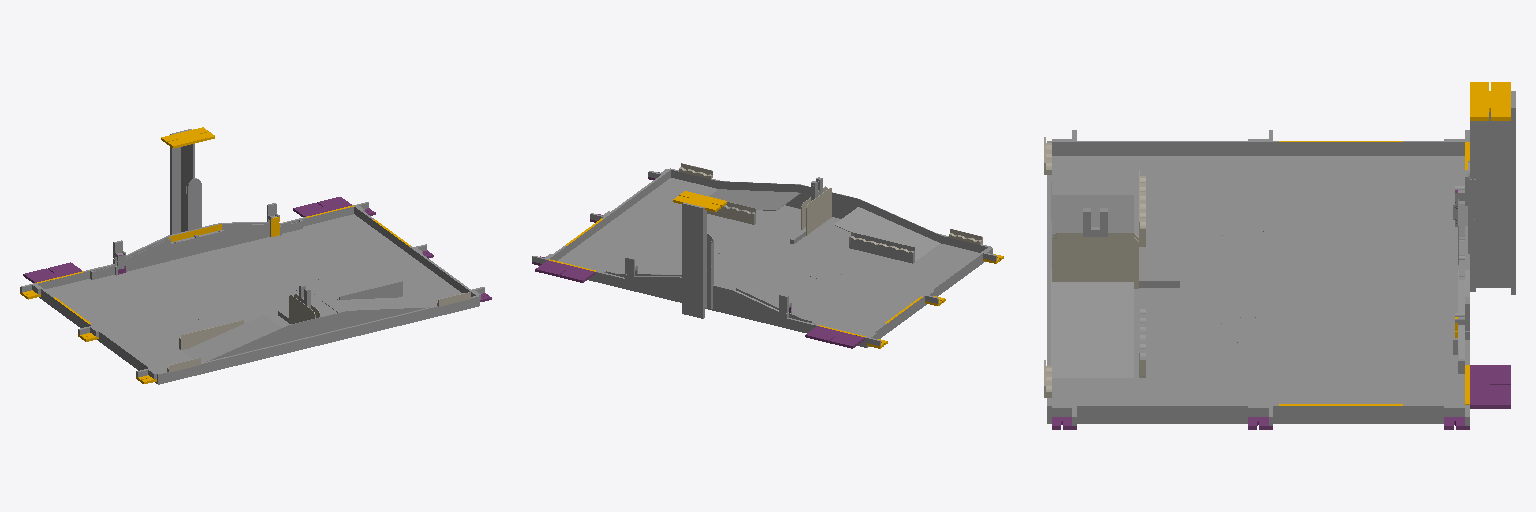
robot.urdf — TableElements2019:
<?xml version="1.0" ?>
<robot
  name="TableElements2019">
  <link
    name="base_link">
    <inertial>
      <origin
        xyz="1.5 0.051936 0.9229"
        rpy="0 0 0" />
      <mass
        value="186.13" />
      <inertia
        ixx="91.89"
        ixy="2.1768E-09"
        ixz="-3.2607E-09"
        iyy="226.8"
        iyz="5.2481"
        izz="141.15" />
    </inertial>
    <visual>
      <origin
        xyz="0 0 0"
        rpy="0 0 0" />
      <geometry>
        <mesh
          filename="package://TableElements2019/meshes/base_link.STL" />
      </geometry>
      <material
        name="">
        <color
          rgba="0.62745 0.62745 0.62745 1" />
      </material>
    </visual>
    <collision>
      <origin
        xyz="0 0 0"
        rpy="0 0 0" />
      <geometry>
        <mesh
          filename="package://TableElements2019/meshes/base_link.STL" />
      </geometry>
    </collision>
  </link>
  <link
    name="y">
    <inertial>
      <origin
        xyz="-1.6818 0.57934 -1.11"
        rpy="0 0 0" />
      <mass
        value="2.8649" />
      <inertia
        ixx="2.5069"
        ixy="0.63877"
        ixz="-1.1259"
        iyy="3.2034"
        iyz="0.81008"
        izz="1.9823" />
    </inertial>
    <visual>
      <origin
        xyz="0 0 0"
        rpy="0 0 0" />
      <geometry>
        <mesh
          filename="package://TableElements2019/meshes/y.STL" />
      </geometry>
      <material
        name="">
        <color
          rgba="0.96863 0.7098 0 1" />
      </material>
    </visual>
    <collision>
      <origin
        xyz="0 0 0"
        rpy="0 0 0" />
      <geometry>
        <mesh
          filename="package://TableElements2019/meshes/y.STL" />
      </geometry>
    </collision>
  </link>
  <joint
    name="jy"
    type="fixed">
    <origin
      xyz="-0.083 -1.939 0.044"
      rpy="1.5708 -6.123E-17 -1.5708" />
    <parent
      link="base_link" />
    <child
      link="y" />
    <axis
      xyz="0 0 0" />
  </joint>
  <link
    name="p">
    <inertial>
      <origin
        xyz="1.7677 0.019009 -0.11463"
        rpy="0 0 0" />
      <mass
        value="5.0623" />
      <inertia
        ixx="1.5264"
        ixy="-0.064328"
        ixz="1.3488"
        iyy="10.068"
        iyz="0.040976"
        izz="8.5464" />
    </inertial>
    <visual>
      <origin
        xyz="0 0 0"
        rpy="0 0 0" />
      <geometry>
        <mesh
          filename="package://TableElements2019/meshes/p.STL" />
      </geometry>
      <material
        name="">
        <color
          rgba="0.51765 0.29804 0.5098 1" />
      </material>
    </visual>
    <collision>
      <origin
        xyz="0 0 0"
        rpy="0 0 0" />
      <geometry>
        <mesh
          filename="package://TableElements2019/meshes/p.STL" />
      </geometry>
    </collision>
  </link>
  <joint
    name="jp"
    type="fixed">
    <origin
      xyz="0 0.022 0.092"
      rpy="-1.5708 0 0" />
    <parent
      link="base_link" />
    <child
      link="p" />
    <axis
      xyz="0 0 0" />
  </joint>
  <link
    name="w">
    <inertial>
      <origin
        xyz="-0.08975 0.072053 0.45"
        rpy="0 0 0" />
      <mass
        value="6.1074" />
      <inertia
        ixx="3.6521"
        ixy="0.022513"
        ixz="-3.0281E-13"
        iyy="3.7991"
        iyz="-7.0392E-14"
        izz="0.18358" />
    </inertial>
    <visual>
      <origin
        xyz="0 0 0"
        rpy="0 0 0" />
      <geometry>
        <mesh
          filename="package://TableElements2019/meshes/w.STL" />
      </geometry>
      <material
        name="">
        <color
          rgba="0.7098 0.6902 0.63137 1" />
      </material>
    </visual>
    <collision>
      <origin
        xyz="0 0 0"
        rpy="0 0 0" />
      <geometry>
        <mesh
          filename="package://TableElements2019/meshes/w.STL" />
      </geometry>
    </collision>
  </link>
  <joint
    name="jw"
    type="fixed">
    <origin
      xyz="1.05 -1.565 0.022"
      rpy="1.5708 6.123E-17 1.5708" />
    <parent
      link="base_link" />
    <child
      link="w" />
    <axis
      xyz="0 0 0" />
  </joint>



  <material name="g">
      <color rgba="180 180 200 1.0"/>
  </material>

  <gazebo reference="base_link">
      <material name="g"/>
  </gazebo>

  <gazebo reference="y">
      <material>Gazebo/Yellow</material>
  </gazebo>

  <gazebo reference="p">
      <material>Gazebo/Purple</material>
  </gazebo>

  <gazebo reference="w">
      <material>Gazebo/White</material>
  </gazebo>

</robot>

--- Render facts (derived) ---
3 views of the same robot in one strip: view 1: azimuth 30°, elevation 25°; view 2: azimuth 150°, elevation 25°; view 3: azimuth 270°, elevation 25° (orthographic).
Model TableElements2019 with 4 links and 3 joints (3 fixed), rooted at base_link, posed every joint at zero.
Links seen in each view (by area): view 1: base_link, y, w, p; view 2: base_link, w, p, y; view 3: base_link, w, p, y.
Boxes of the visible links, x1,y1,x2,y2 form: base_link: (20, 129, 484, 384); y: (20, 127, 410, 383); w: (167, 292, 470, 372); p: (23, 197, 491, 301); base_link: (532, 168, 996, 347); w: (679, 163, 982, 252); p: (532, 172, 864, 348); y: (549, 191, 1003, 348); base_link: (1047, 91, 1515, 425); w: (1044, 137, 1145, 397); p: (1052, 190, 1510, 429); y: (1279, 82, 1510, 405).
Bounding box of the posed robot: 3.29 × 2.28 × 1.02 m (x, y, z).
Meshes: 4 distinct files referenced, 4 mesh visuals loaded (4 binary STL).
